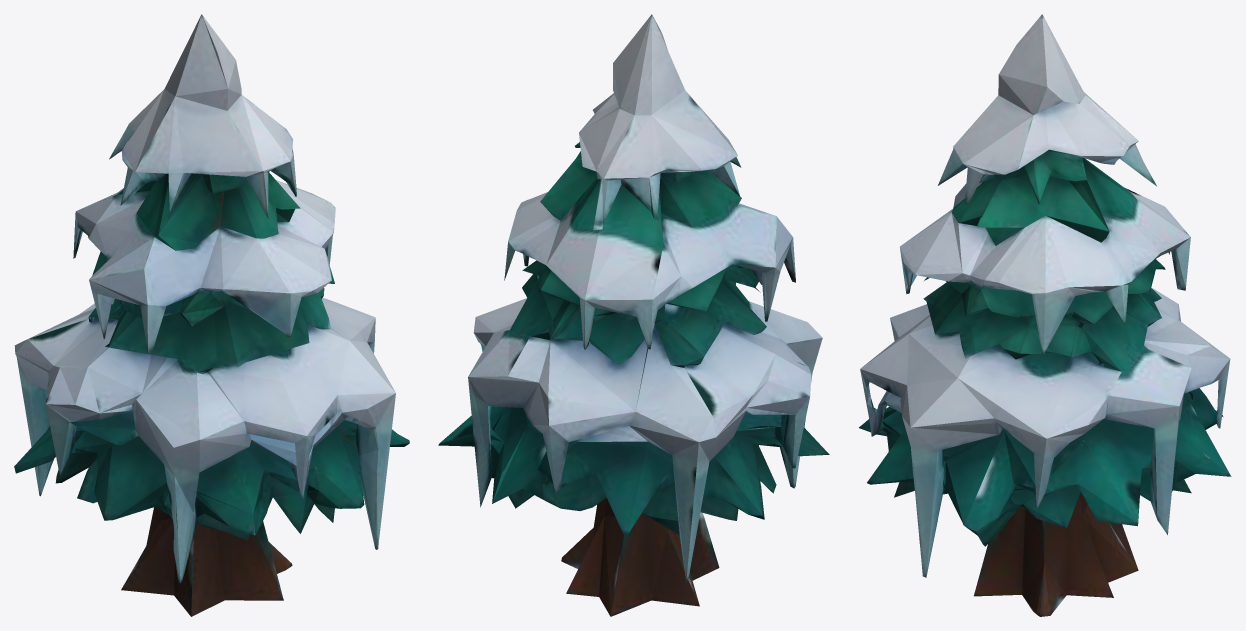
File: d_givre_sapin.glb
The picture shows the model from 3 angles, left to right: view 1: azimuth 30°, elevation 25°; view 2: azimuth 150°, elevation 25°; view 3: azimuth 270°, elevation 25°; orthographic projection. The views are drawn at different scales.
Visible parts, largest first — view 1: geometry_0; view 2: geometry_0; view 3: geometry_0.
Part boxes in pixels (x1,y1,x2,y2): geometry_0: (14, 14, 409, 616); geometry_0: (438, 14, 829, 616); geometry_0: (859, 14, 1231, 616).
Bounding box in the file's own units: 0.6109 × 1 × 0.6035.
Materials: 1 (1 with a texture image).
